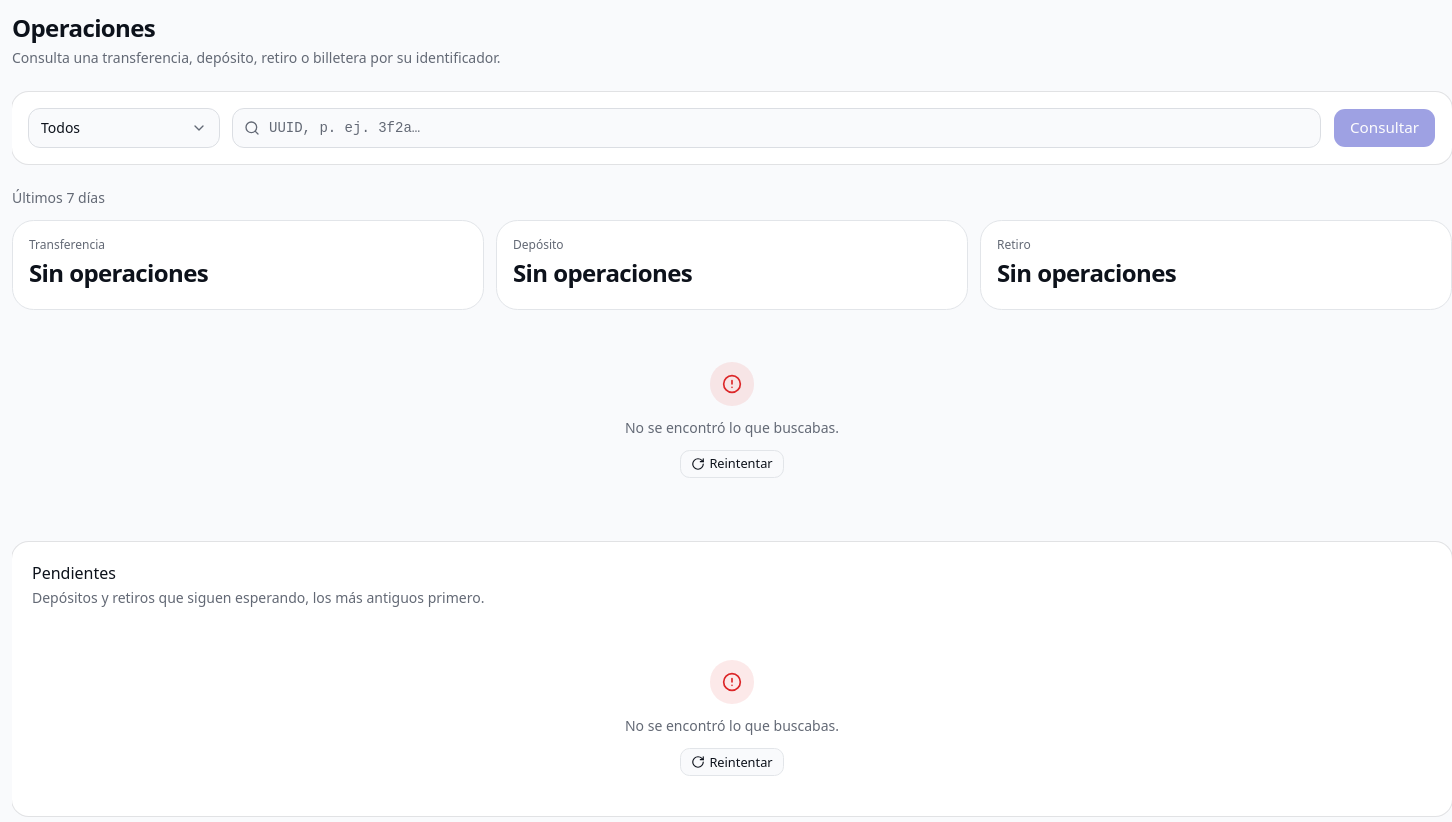
AdminOperationsPage › says so when no type has that id
Type "3f2a91bc-1111-4222-8333-444455556666" into the dropdown named "Identificador" at x=776, y=128, box x1=232 y1=108 x2=1321 y2=148
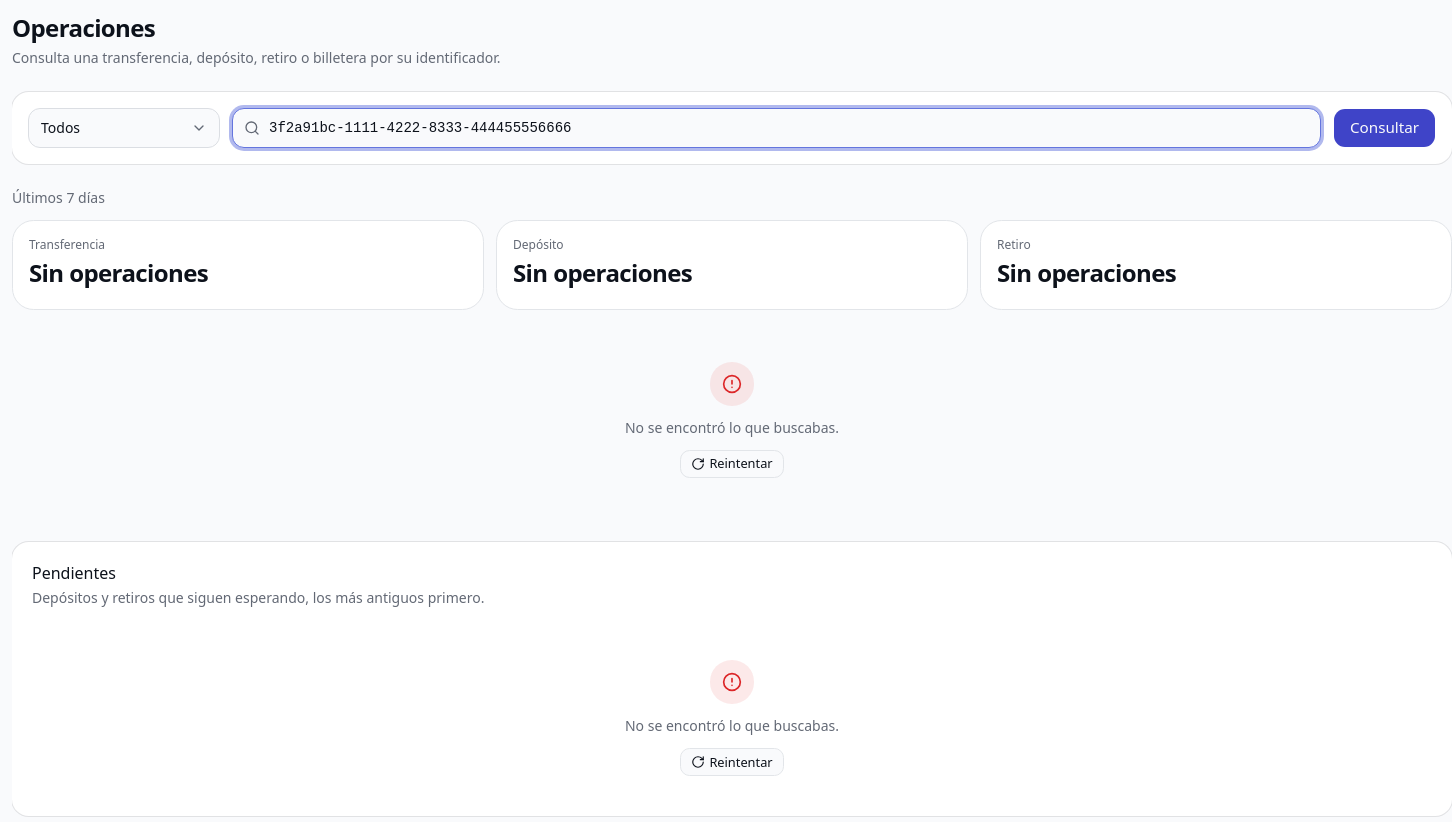
Click the button "Consultar" at x=1384, y=128, box x1=1333 y1=108 x2=1436 y2=148
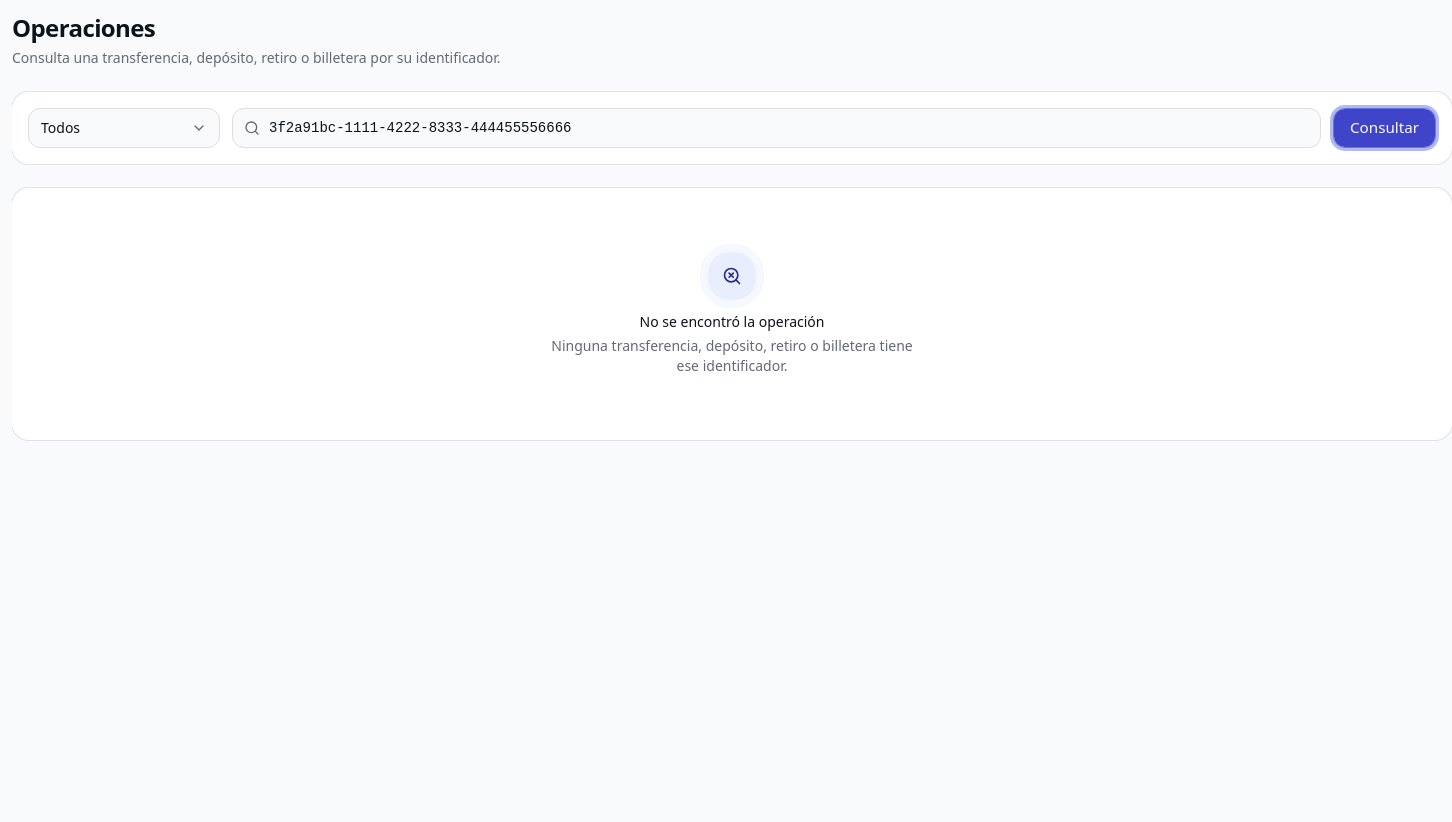
Expected: the text "No se encontró la operación" is shown, x1=640 y1=312 x2=824 y2=331
